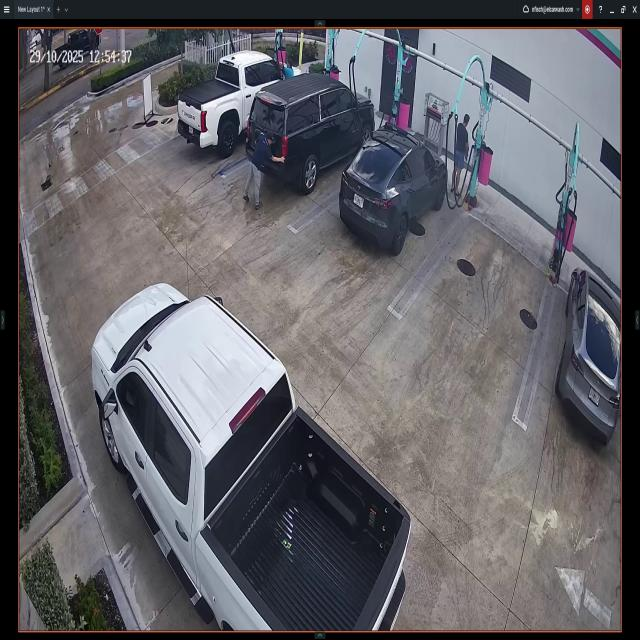Car: (90, 274, 411, 628), (246, 74, 374, 195), (340, 127, 448, 249), (173, 51, 301, 153), (556, 267, 621, 442)
